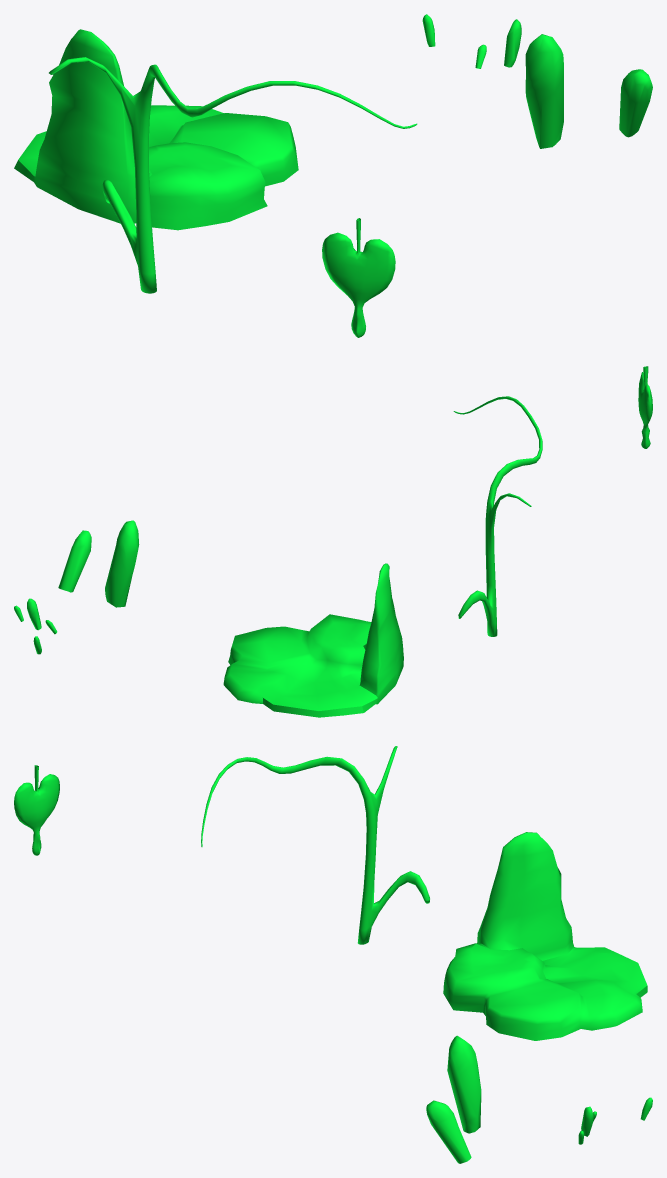
Rendered from SaveShrine_low.FBX.
3 renders of one model, top to bottom at view 1: azimuth 30°, elevation 25°; view 2: azimuth 150°, elevation 25°; view 3: azimuth 270°, elevation 25°, orthographic. The views are drawn at different scales.
Visible parts, largest first — view 1: Shrine_low, Wood _low, Heart_low, 3_low, 2_low, 33_low; view 2: Shrine_low, Wood _low, 3_low, 2_low, Heart_low; view 3: Shrine_low, Wood _low, 3_low, Heart_low, 2_low.
Part boxes in pixels (left/top/right/bottom): Shrine_low: left=14, top=29, right=298, bottom=230; Wood _low: left=49, top=57, right=417, bottom=293; Heart_low: left=322, top=218, right=395, bottom=337; 3_low: left=525, top=34, right=563, bottom=148; 2_low: left=619, top=69, right=652, bottom=137; 33_low: left=504, top=19, right=521, bottom=67; Shrine_low: left=223, top=563, right=403, bottom=717; Wood _low: left=453, top=396, right=542, bottom=636; 3_low: left=105, top=520, right=139, bottom=607; 2_low: left=58, top=530, right=91, bottom=592; Heart_low: left=638, top=366, right=652, bottom=448; Shrine_low: left=443, top=832, right=647, bottom=1040; Wood _low: left=201, top=746, right=429, bottom=944; 3_low: left=447, top=1035, right=481, bottom=1133; Heart_low: left=14, top=765, right=59, bottom=855; 2_low: left=426, top=1100, right=471, bottom=1163.
Size of the model in its own units: 319 by 137 by 367.
